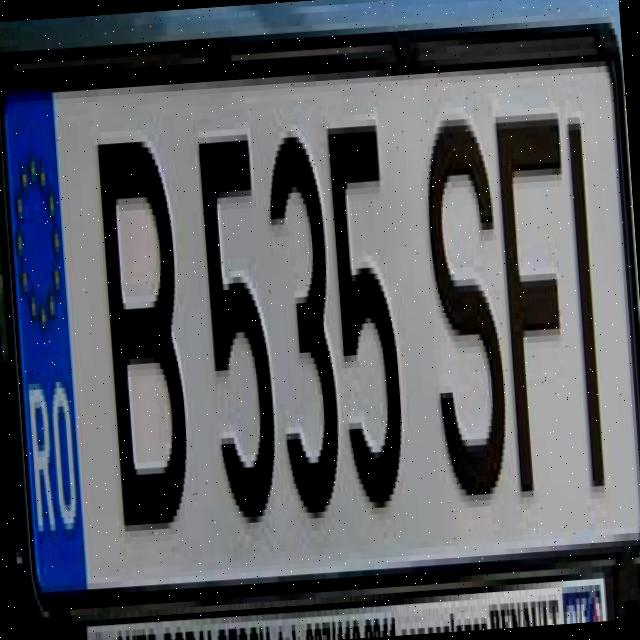EU: (0, 0, 640, 607)
Romanie: (0, 84, 89, 587)
